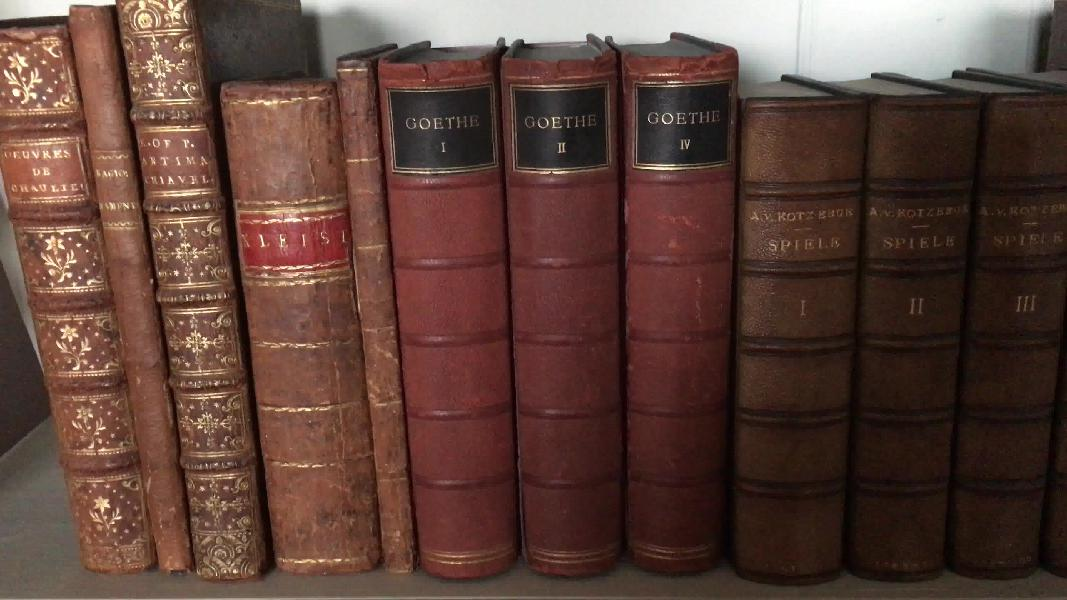Aa6-10: (327, 43, 433, 584)
Aa6-11_13: (381, 48, 746, 578)
Aa6-14_17: (735, 85, 1067, 578)
Aa6-6: (4, 19, 152, 581)
Aa6-7: (61, 2, 190, 584)
Aa6-8: (117, 11, 296, 567)
Aa6-9: (204, 66, 377, 582)
